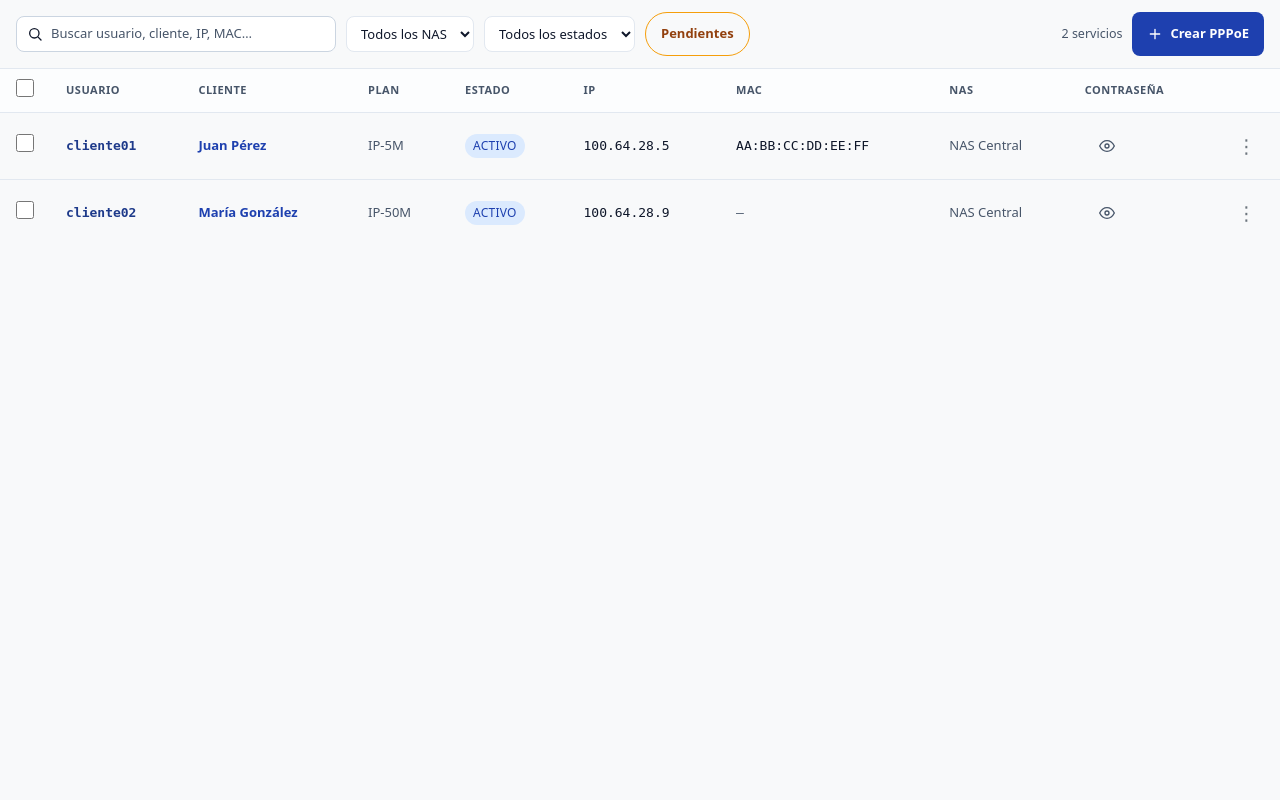
PppoeManagementTab bulk — 5.6: modal bulk cambio de plan › abre el modal bulk al hacer click en "Cambiar plan"
Click the checkbox named "seleccionar todos de esta página" at (25, 88), box [16,79,34,97]
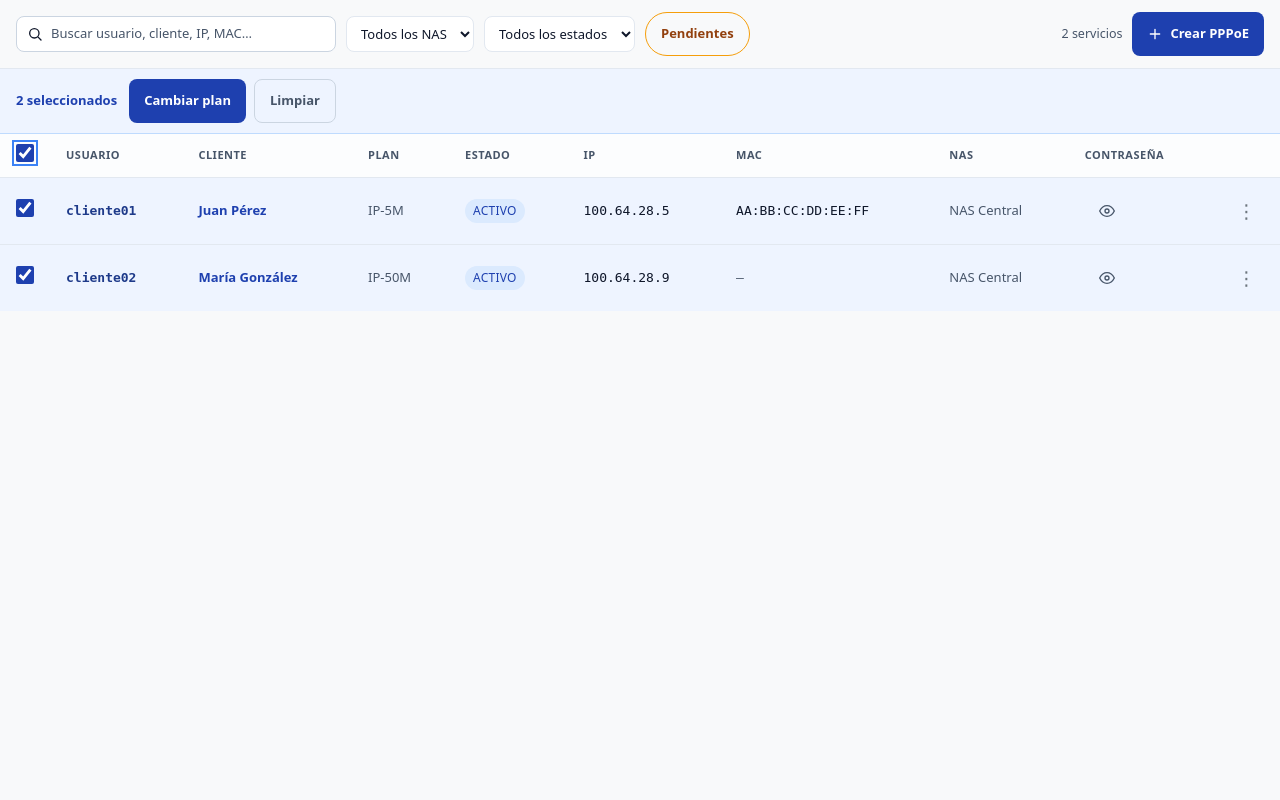
Click the button "Cambiar plan" at (188, 101), box [129,79,246,123]
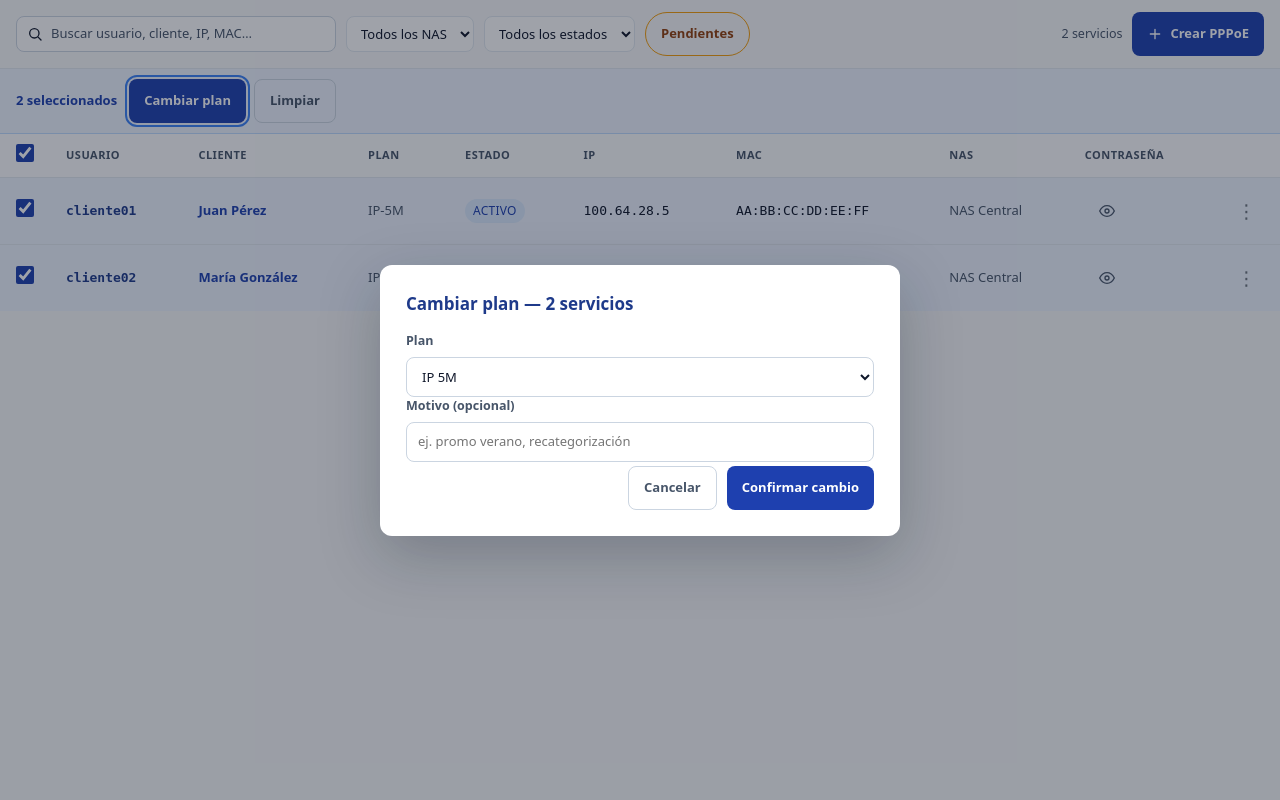
Check: the dialog is shown, box [380,264,900,536]
